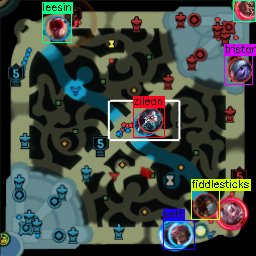fiddlesticks: (193, 192, 219, 217)
leesin: (44, 15, 70, 41)
lucian: (235, 1, 256, 20)
rakan: (218, 201, 244, 225)
sett: (169, 223, 191, 246)
tristana: (227, 58, 253, 83)
zilean: (138, 109, 163, 132)
